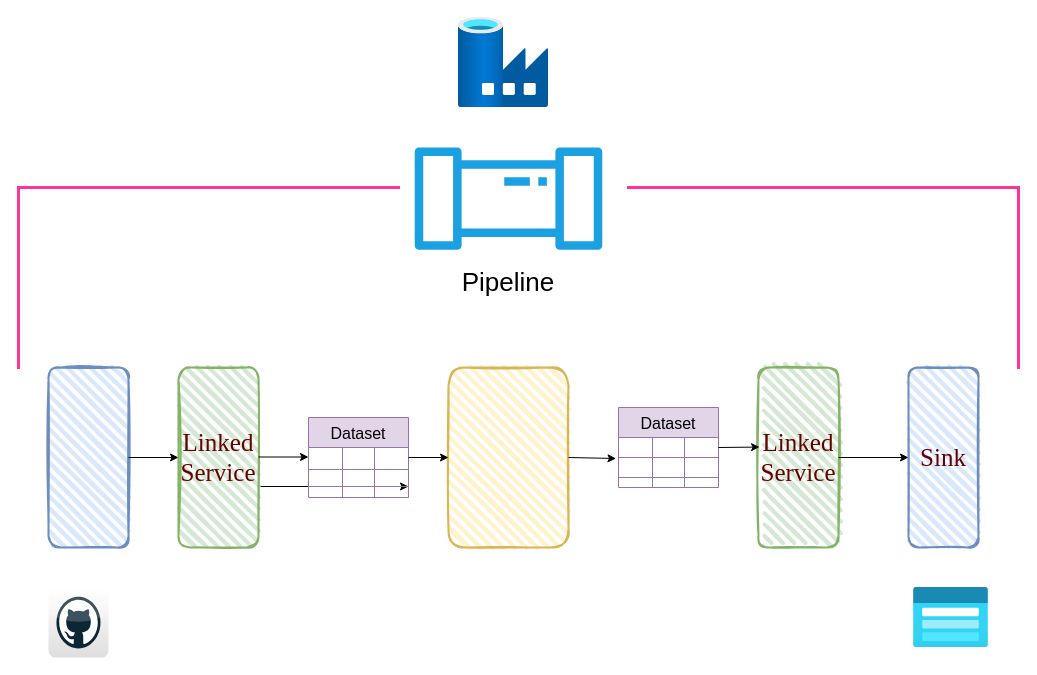
This 1037x675 diagram has some shape labels left out. Each missing label, with the box of its shape:
Copy Activity: (447, 366, 569, 548)
Source: (47, 366, 129, 548)
